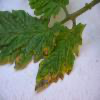Tomato Septoria leaf spot: (0, 9, 81, 69), (34, 22, 86, 91)
